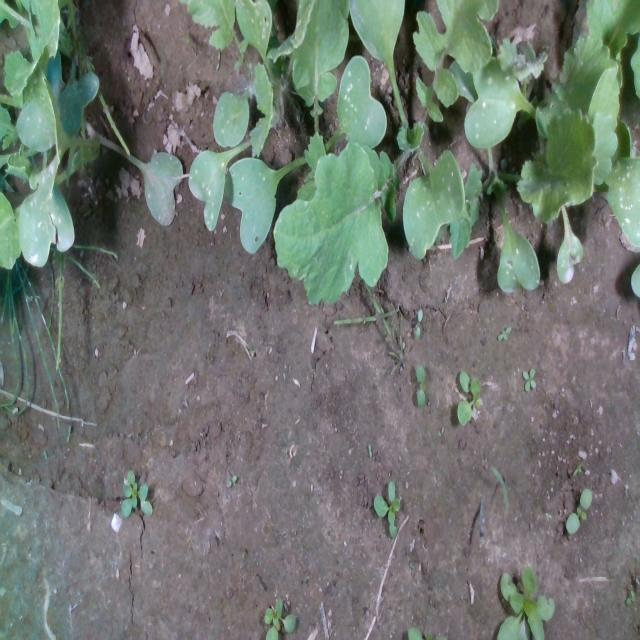weed: (520, 365, 538, 391), (496, 325, 512, 343)
